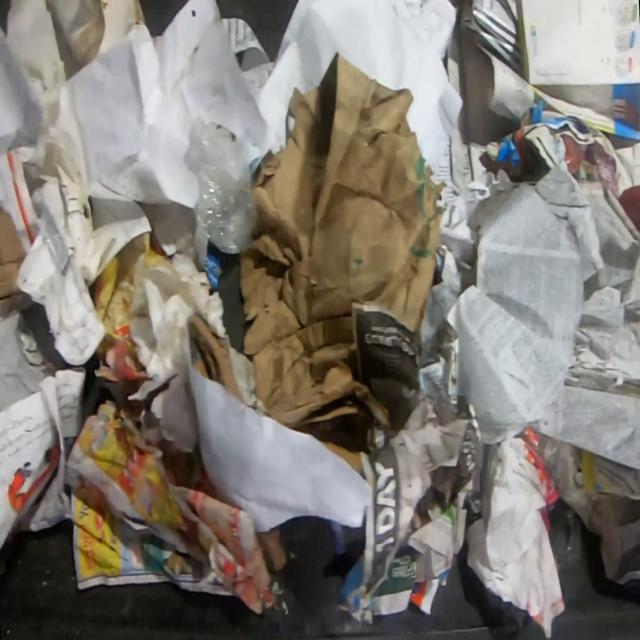cardboard: (235, 53, 448, 476), (47, 0, 148, 70), (187, 312, 244, 404), (0, 207, 38, 320)
rigid_plastic: (188, 113, 261, 257), (550, 504, 586, 572)
